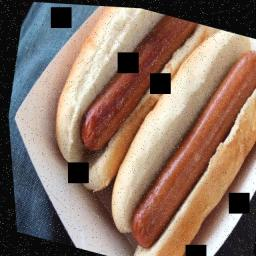hotdog: (115, 24, 256, 256), (69, 3, 187, 166)
